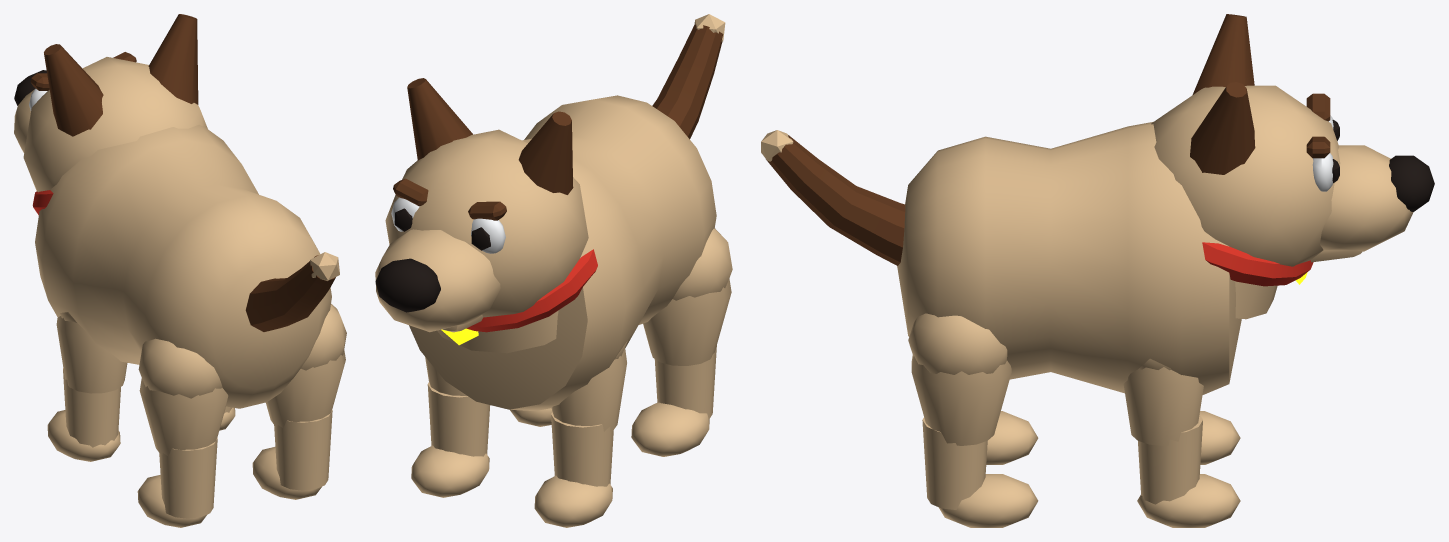
The model's file is perro_policia.glb.
3 renders of one model, left to right at view 1: azimuth 30°, elevation 25°; view 2: azimuth 150°, elevation 25°; view 3: azimuth 270°, elevation 25°, orthographic. The views are drawn at different scales.
Visible parts, largest first — view 1: Cuerpo, Cabeza, Pata_TI, Pata_TD, Pata_DI, Cola; view 2: Cuerpo, Cabeza, Pata_TI, Pata_DI, Pata_DD, Cola, Pata_TD; view 3: Cuerpo, Cabeza, Pata_TD, Pata_DD, Cola, Pata_TI, Pata_DI.
Part boxes in pixels (x1,y1,x2,y2): Cuerpo: [32, 124, 331, 408]; Cabeza: [14, 14, 207, 192]; Pata_TI: [137, 338, 228, 527]; Pata_TD: [252, 303, 346, 499]; Pata_DI: [47, 312, 127, 461]; Cola: [245, 252, 339, 331]; Cuerpo: [409, 95, 716, 410]; Cabeza: [375, 78, 588, 332]; Pata_TI: [631, 228, 732, 456]; Pata_DI: [534, 340, 627, 527]; Pata_DD: [411, 357, 490, 497]; Cola: [652, 14, 725, 139]; Pata_TD: [510, 408, 552, 426]; Cuerpo: [897, 122, 1313, 394]; Cabeza: [1151, 14, 1434, 266]; Pata_TD: [908, 313, 1038, 527]; Pata_DD: [1123, 358, 1240, 527]; Cola: [761, 130, 905, 265]; Pata_TI: [986, 411, 1038, 464]; Pata_DI: [1199, 411, 1240, 464].
Size of the model in its own units: 0.5146 by 0.9473 by 1.3.
